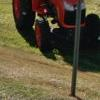Tractor: (11, 3, 100, 77)
